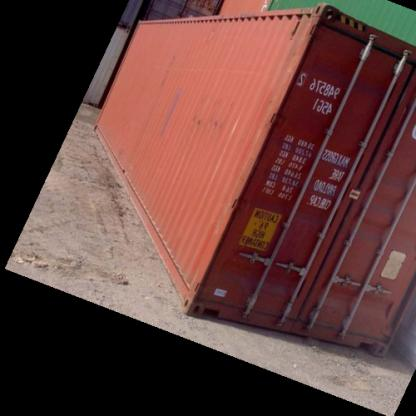Damage: (272, 213, 316, 269), (188, 108, 228, 138), (217, 266, 257, 291), (153, 50, 177, 86)
